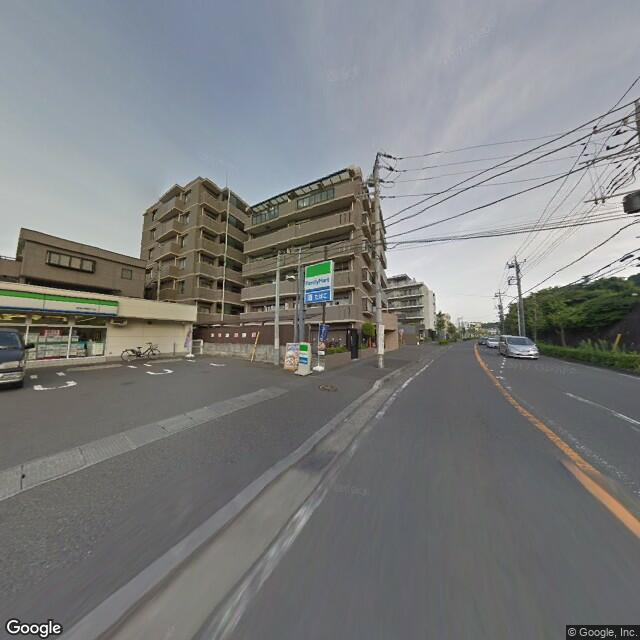family_mart: (2, 286, 120, 317), (303, 258, 333, 297)
